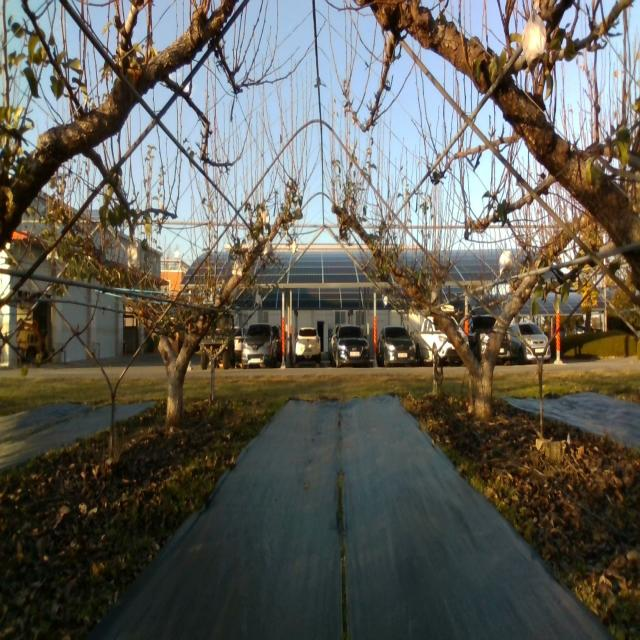pearbags: (522, 12, 547, 72), (127, 239, 145, 270), (499, 250, 515, 276), (231, 258, 243, 278)
